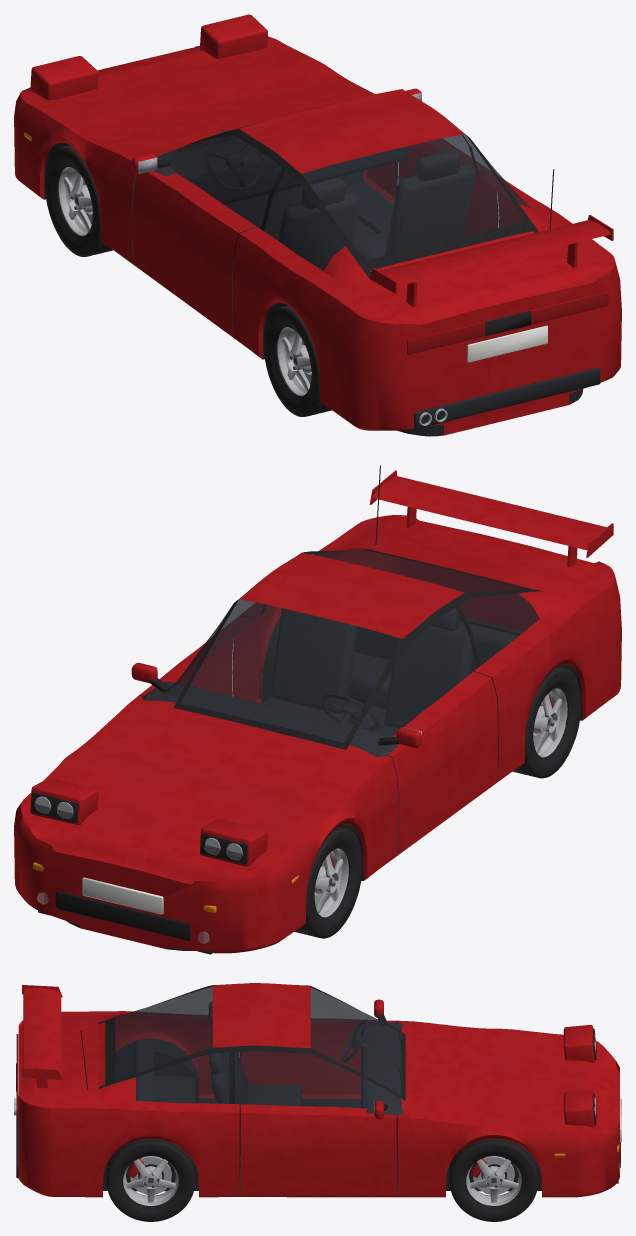
Rendered from car_jdm.glb.
3 renders of one model, top to bottom at view 1: azimuth 30°, elevation 25°; view 2: azimuth 150°, elevation 25°; view 3: azimuth 270°, elevation 25°, orthographic. The views are drawn at different scales.
Visible parts, largest first — view 1: Coupe - Body paint, red with clear coat, Coupe - Tinted glass (alpha-blended), Coupe - Interior, dark grey, Coupe - Underbody and wheel wells, Coupe - Tyre rubber, Coupe - Black window trim and pillars, Coupe - Alloy wheels, silver paint, Coupe - Tail lamp lenses, Coupe - Blank number plate; view 2: Coupe - Body paint, red with clear coat, Coupe - Tinted glass (alpha-blended), Coupe - Interior, dark grey, Coupe - Black window trim and pillars, Coupe - Tyre rubber, Coupe - Alloy wheels, silver paint, Coupe - Underbody and wheel wells, Coupe - Blank number plate, Coupe - Clear lamp lens (alpha-blended); view 3: Coupe - Body paint, red with clear coat, Coupe - Tinted glass (alpha-blended), Coupe - Interior, dark grey, Coupe - Tyre rubber, Coupe - Underbody and wheel wells, Coupe - Black window trim and pillars, Coupe - Alloy wheels, silver paint, Coupe - Brake disc steel.
Boxes of the visible parts, x1,y1,x2,y2 form: Coupe - Body paint, red with clear coat: (14, 14, 621, 435); Coupe - Tinted glass (alpha-blended): (158, 98, 530, 270); Coupe - Interior, dark grey: (154, 130, 475, 270); Coupe - Underbody and wheel wells: (44, 135, 600, 436); Coupe - Tyre rubber: (44, 145, 331, 416); Coupe - Black window trim and pillars: (157, 113, 553, 336); Coupe - Alloy wheels, silver paint: (58, 167, 311, 395); Coupe - Tail lamp lenses: (407, 291, 608, 354); Coupe - Blank number plate: (467, 325, 547, 362); Coupe - Body paint, red with clear coat: (14, 470, 621, 953); Coupe - Tinted glass (alpha-blended): (156, 550, 539, 752); Coupe - Interior, dark grey: (142, 608, 518, 786); Coupe - Black window trim and pillars: (31, 465, 541, 954); Coupe - Tyre rubber: (294, 666, 581, 938); Coupe - Alloy wheels, silver paint: (314, 688, 567, 917); Coupe - Underbody and wheel wells: (67, 616, 582, 953); Coupe - Blank number plate: (82, 877, 163, 914); Coupe - Clear lamp lens (alpha-blended): (34, 796, 242, 943); Coupe - Body paint, red with clear coat: (18, 983, 619, 1197); Coupe - Tinted glass (alpha-blended): (115, 985, 401, 1108); Coupe - Interior, dark grey: (134, 1002, 403, 1170); Coupe - Tyre rubber: (106, 1139, 538, 1221); Coupe - Underbody and wheel wells: (16, 1038, 542, 1197); Coupe - Black window trim and pillars: (16, 983, 620, 1183); Coupe - Alloy wheels, silver paint: (123, 1159, 521, 1205); Coupe - Brake disc steel: (130, 1156, 514, 1194).
Bounding box in the file's own units: 1.92 × 1.42 × 4.48.
17 materials, 11 textured.
